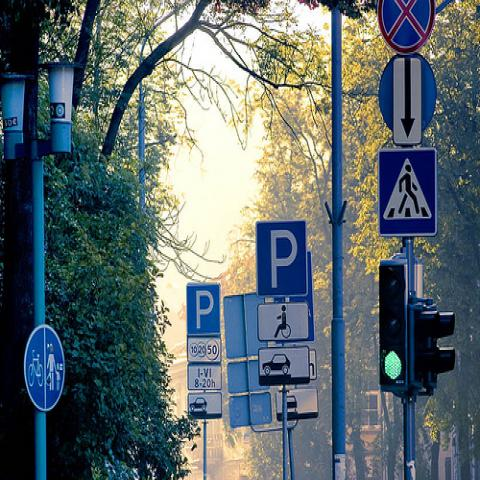car: (262, 353, 291, 376)
